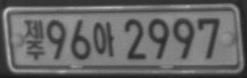2: (123, 18, 147, 59)
6: (70, 19, 91, 59)
7: (197, 17, 220, 58)
9: (147, 17, 169, 59), (172, 17, 194, 59), (45, 19, 66, 59)
아: (93, 21, 114, 57)
제주_V: (22, 18, 46, 61)
